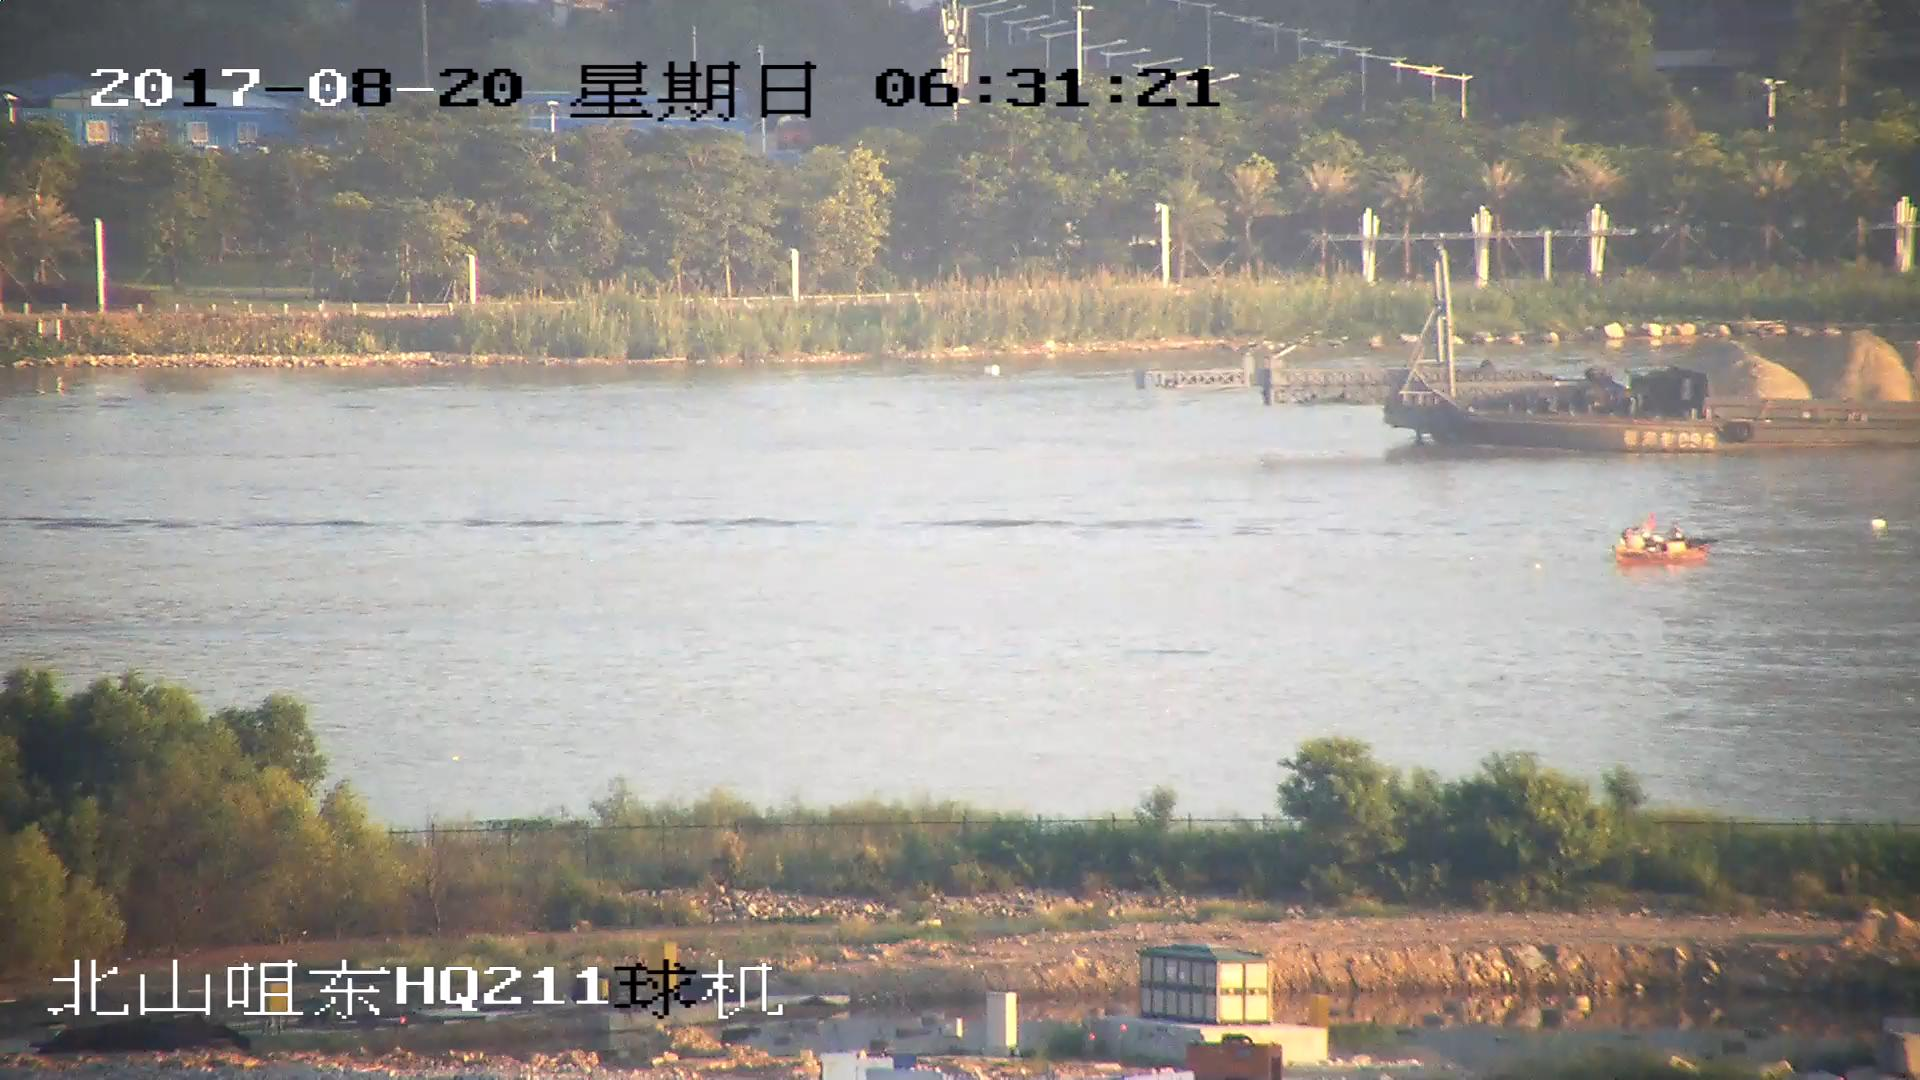fishing boat: (1609, 510, 1724, 569)
ore carrier: (1144, 250, 1920, 458)
